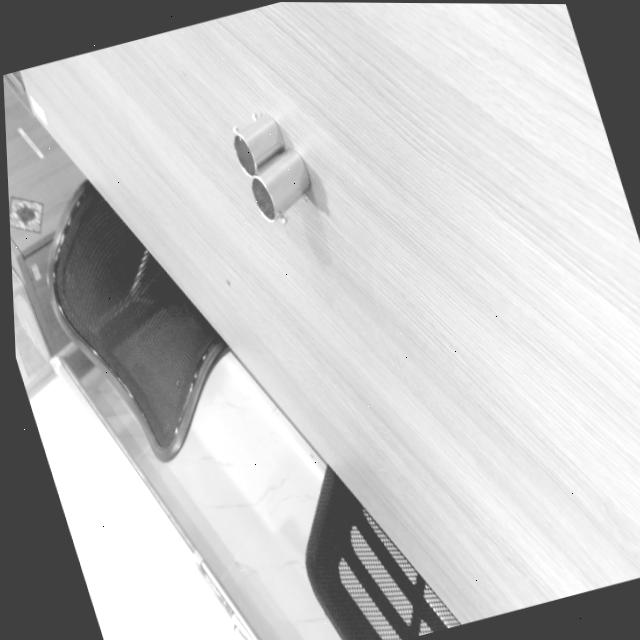Co_Lon: (238, 143, 321, 225)
Co_Nho: (219, 105, 294, 179)
